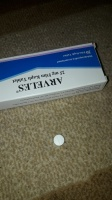Arveles: (53, 134, 65, 147)
